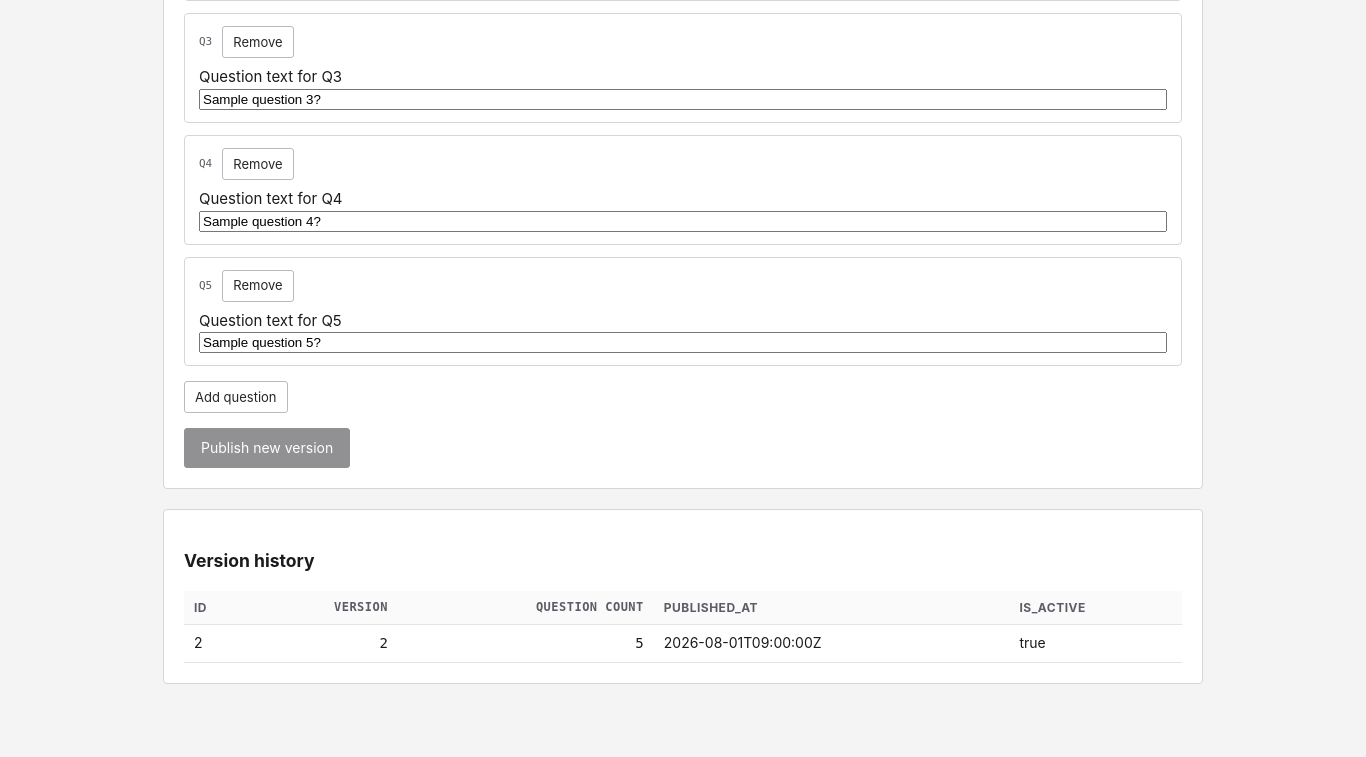
RuleEditor › adding a question via Add Question crosses the 6-question threshold and enables Publish
(page scrolled)
Click the button with test id "add-question".
click(236, 397)  # box top-left (184, 381), bottom-right (288, 413)
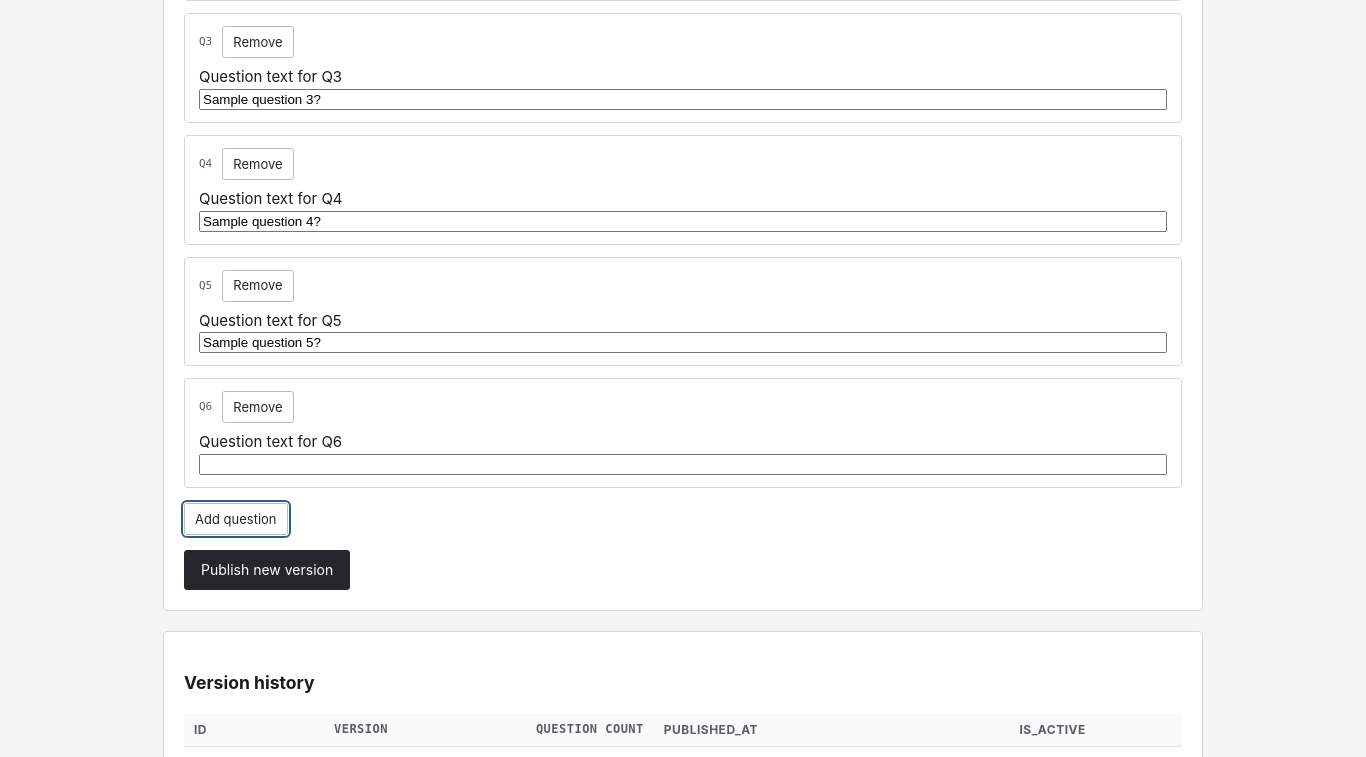
expect the button with test id "rule-publish" is enabled: met, box top-left (184, 550), bottom-right (350, 590)
